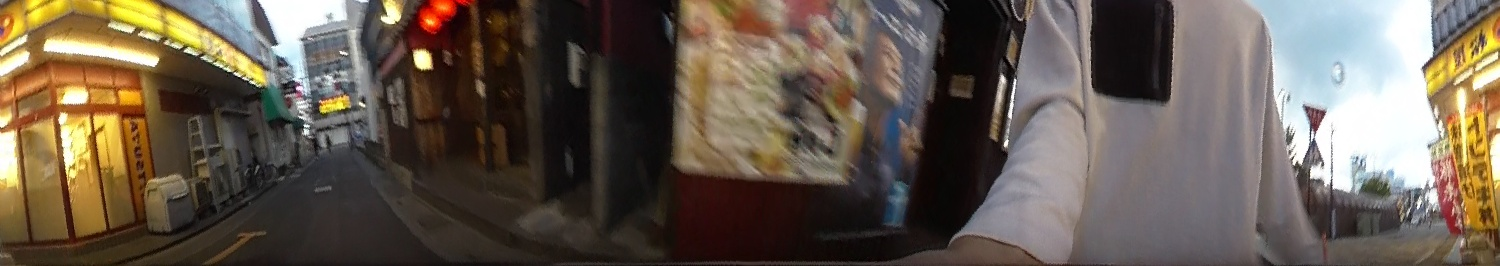difficult_person: (309, 133, 322, 158), (324, 130, 334, 159)
